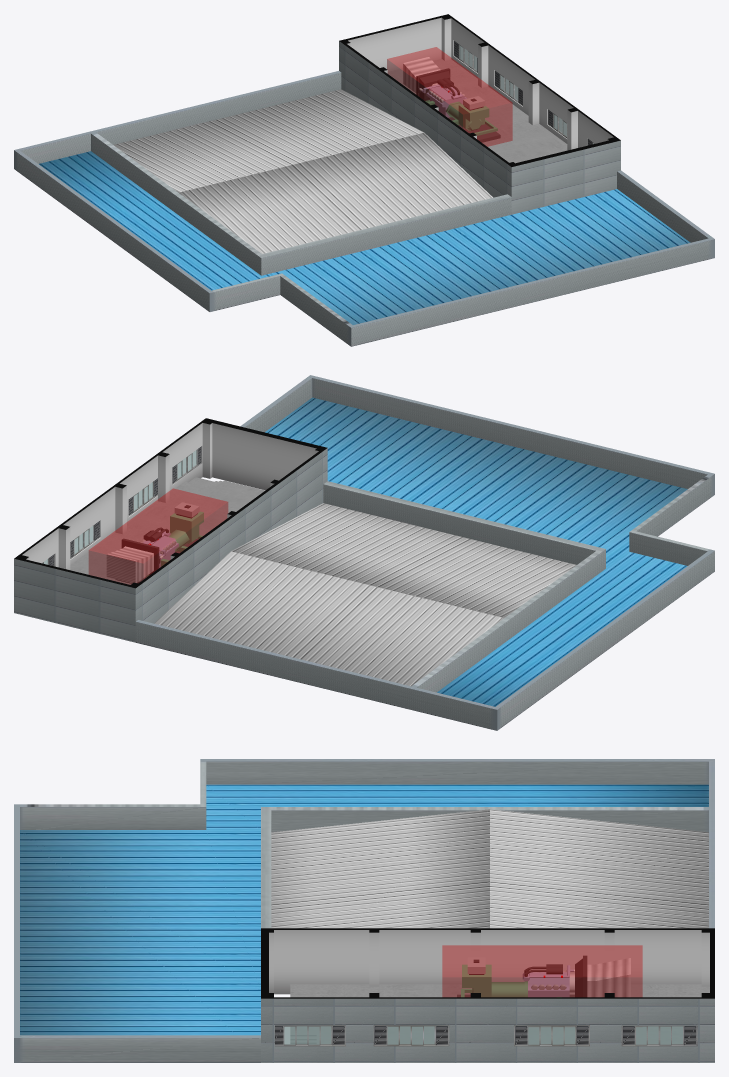
File: waste-water-disposal-2F.glb
3 renders of one model, top to bottom at view 1: azimuth 30°, elevation 25°; view 2: azimuth 150°, elevation 25°; view 3: azimuth 270°, elevation 25°, orthographic. The views are drawn at different scales.
Parts seen in each view (by area): view 1: Line1151, Line1155, Line1153, 2F, equipment-waste-water-disopsal-2F-001, Line2524, Rectangle015; view 2: Line1151, Line1155, Line1153, 2F, equipment-waste-water-disopsal-2F-001, Line2524, Rectangle015; view 3: Line1151, Line1155, 2F, Line1153, equipment-waste-water-disopsal-2F-001, Rectangle015, Line2524.
Boxes of the visible parts, <box> form: Line1151: <box>39,59,690,324</box>; Line1155: <box>113,89,492,253</box>; Line1153: <box>14,71,714,346</box>; 2F: <box>339,14,620,214</box>; equipment-waste-water-disopsal-2F-001: <box>387,47,512,146</box>; Line2524: <box>403,57,500,142</box>; Rectangle015: <box>453,41,594,145</box>; Line1151: <box>70,397,687,706</box>; Line1155: <box>154,503,576,686</box>; Line1153: <box>135,375,714,730</box>; 2F: <box>14,418,327,642</box>; equipment-waste-water-disopsal-2F-001: <box>89,488,227,584</box>; Line2524: <box>106,502,203,583</box>; Rectangle015: <box>42,446,201,566</box>; Line1151: <box>20,784,709,1043</box>; Line1155: <box>271,809,708,928</box>; 2F: <box>261,928,714,1062</box>; Line1153: <box>14,759,714,1062</box>; equipment-waste-water-disopsal-2F-001: <box>442,945,642,996</box>; Rectangle015: <box>275,1025,697,1046</box>; Line2524: <box>457,955,630,997</box>.
Bounding box in the file's own units: 32.55 × 3.51 × 34.58.
19 materials, 9 textured.
